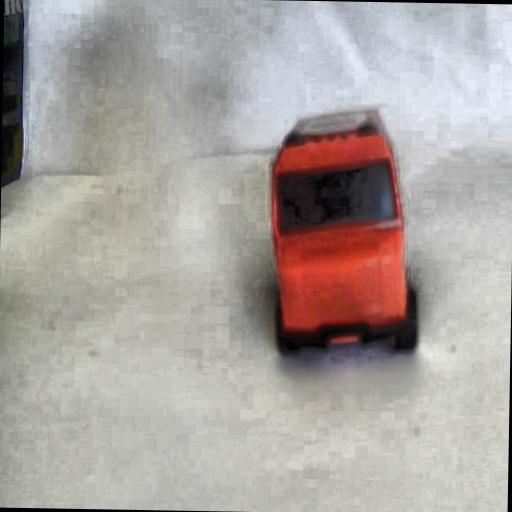fire_truck: (263, 107, 420, 358)
